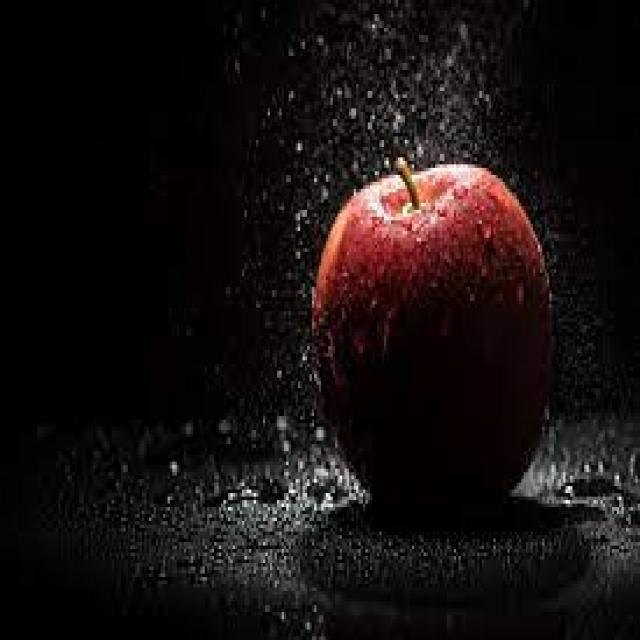Fresh Apple: (322, 178, 546, 505)
